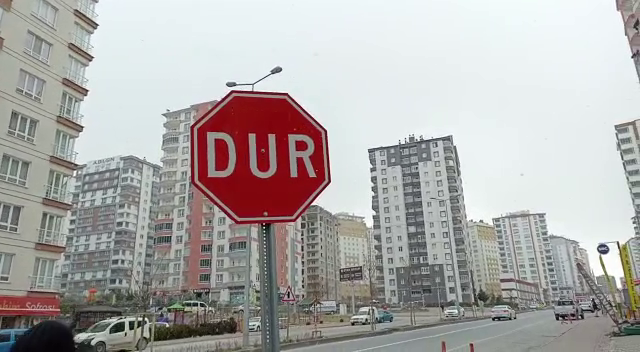stop: (187, 88, 334, 226)
